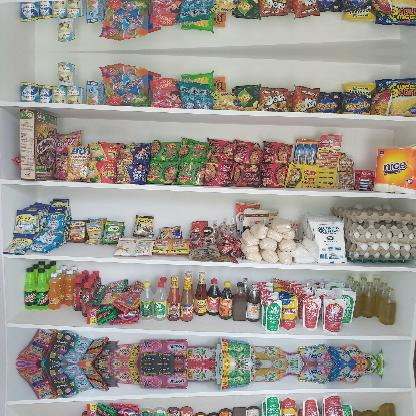Koko-Krunch: (18, 106, 58, 180)
